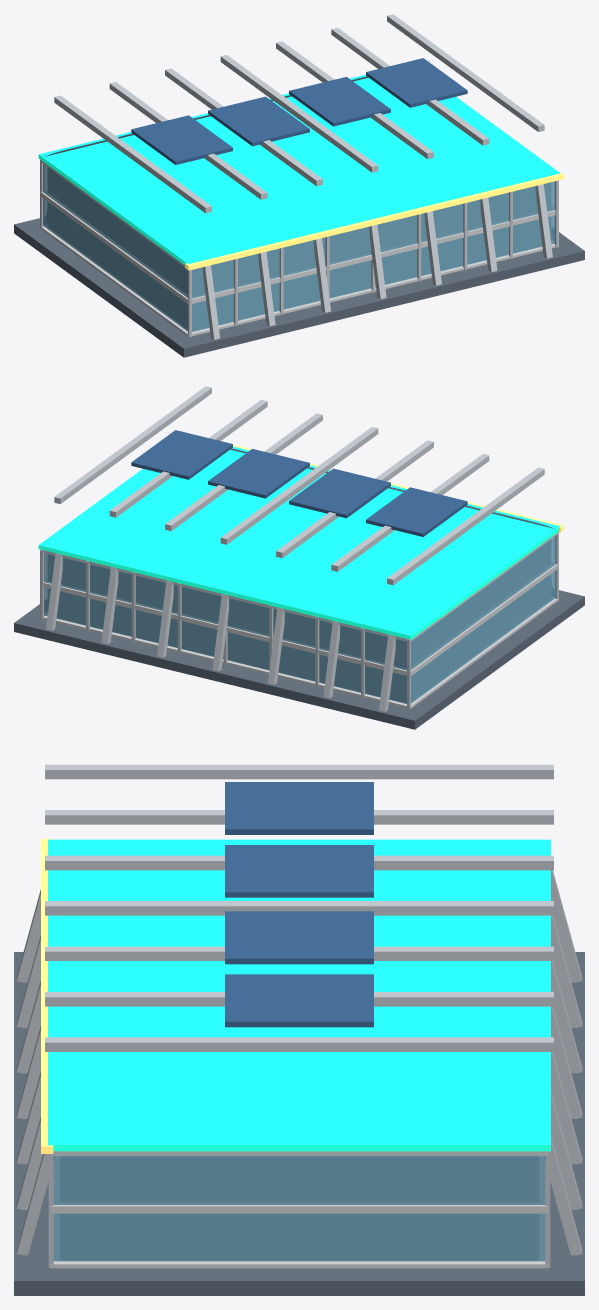
File: indoor_training_arena.master.glb
The picture shows the model from 3 angles, top to bottom: view 1: azimuth 30°, elevation 25°; view 2: azimuth 150°, elevation 25°; view 3: azimuth 270°, elevation 25°; orthographic projection. The views are drawn at different scales.
Visible parts, largest first — view 1: indoor_training_arena_master; view 2: indoor_training_arena_master; view 3: indoor_training_arena_master.
Boxes of the visible parts, x1,y1,x2,y2 form: indoor_training_arena_master: [14, 14, 584, 357]; indoor_training_arena_master: [14, 386, 584, 729]; indoor_training_arena_master: [14, 764, 584, 1295].
Size of the model in its own units: 3.76 by 1.23 by 2.76.
